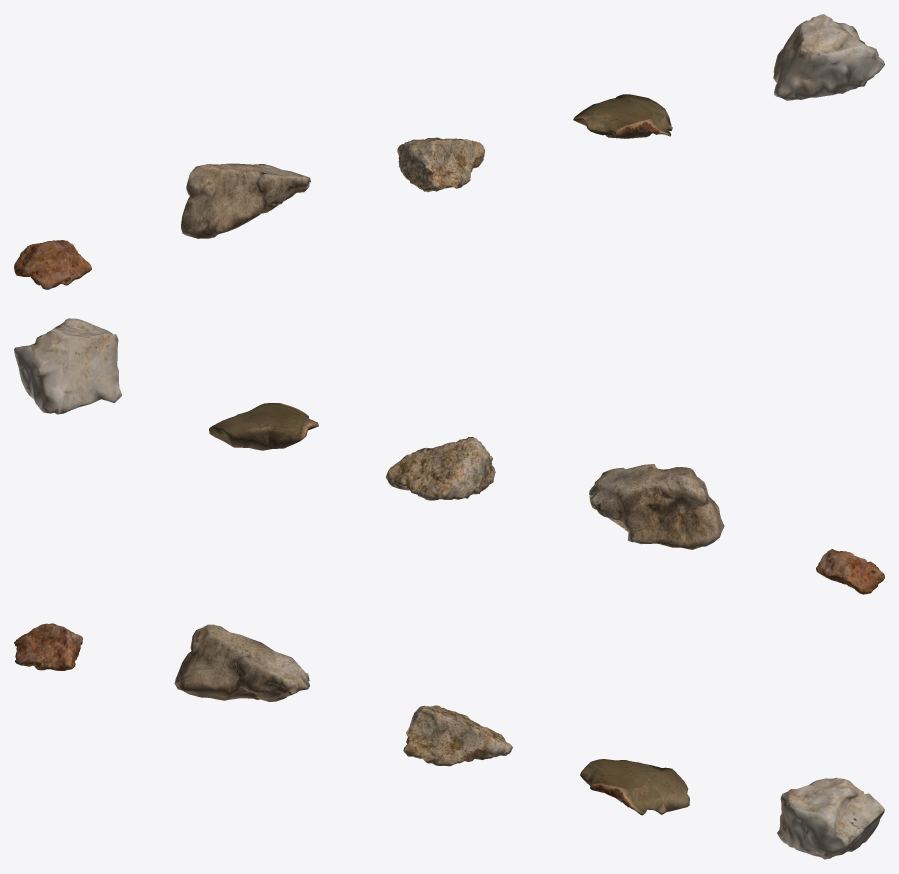
File: namaqualand_stones_01.glb
3 views of the same model, one above another, from view 1: azimuth 30°, elevation 25°; view 2: azimuth 150°, elevation 25°; view 3: azimuth 330°, elevation 25° (orthographic).
Parts seen in each view (by area): view 1: namaqualand_stones_01_e, namaqualand_stones_01_b, namaqualand_stones_01_c, namaqualand_stones_01_d, namaqualand_stones_01_a; view 2: namaqualand_stones_01_b, namaqualand_stones_01_e, namaqualand_stones_01_c, namaqualand_stones_01_d, namaqualand_stones_01_a; view 3: namaqualand_stones_01_b, namaqualand_stones_01_e, namaqualand_stones_01_c, namaqualand_stones_01_d, namaqualand_stones_01_a.
Boxes of the visible parts, left/top/right/bottom form: namaqualand_stones_01_e: left=773, top=14, right=884, bottom=100; namaqualand_stones_01_b: left=181, top=163, right=310, bottom=238; namaqualand_stones_01_c: left=397, top=137, right=484, bottom=192; namaqualand_stones_01_d: left=573, top=94, right=672, bottom=138; namaqualand_stones_01_a: left=14, top=240, right=91, bottom=289; namaqualand_stones_01_b: left=589, top=464, right=724, bottom=549; namaqualand_stones_01_e: left=14, top=318, right=121, bottom=414; namaqualand_stones_01_c: left=385, top=437, right=495, bottom=500; namaqualand_stones_01_d: left=209, top=403, right=318, bottom=450; namaqualand_stones_01_a: left=816, top=549, right=884, bottom=594; namaqualand_stones_01_b: left=174, top=624, right=309, bottom=701; namaqualand_stones_01_e: left=777, top=777, right=884, bottom=859; namaqualand_stones_01_c: left=403, top=705, right=512, bottom=766; namaqualand_stones_01_d: left=580, top=759, right=689, bottom=815; namaqualand_stones_01_a: left=14, top=623, right=82, bottom=670.
Bounding box in the file's own units: 1.02 × 0.084 × 0.112.
1 material, 1 textured.
